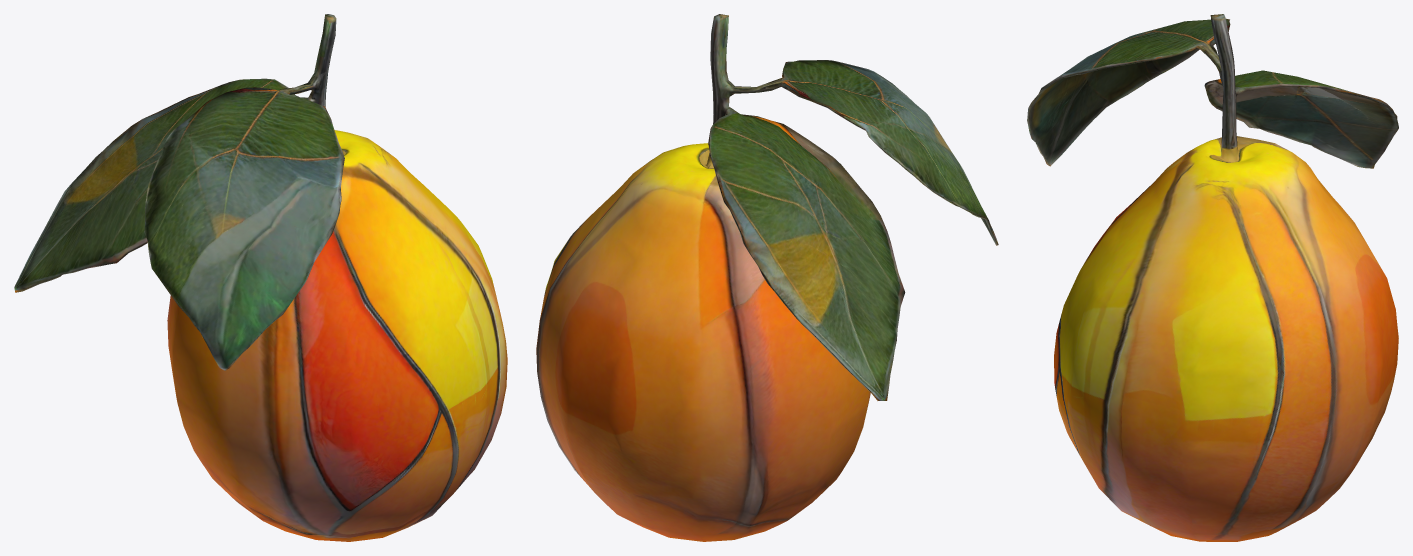
The model's file is testMango.glb.
The picture shows the model from 3 angles, left to right: view 1: azimuth 30°, elevation 25°; view 2: azimuth 150°, elevation 25°; view 3: azimuth 270°, elevation 25°; orthographic projection.
Parts seen in each view (by area): view 1: Mesh_0; view 2: Mesh_0; view 3: Mesh_0.
Boxes of the visible parts, x1,y1,x2,y2 form: Mesh_0: (14, 14, 507, 541); Mesh_0: (536, 14, 998, 541); Mesh_0: (1027, 14, 1398, 541).
Bounding box in the file's own units: 0.8235 × 1 × 0.6784.
1 material, 1 textured.
